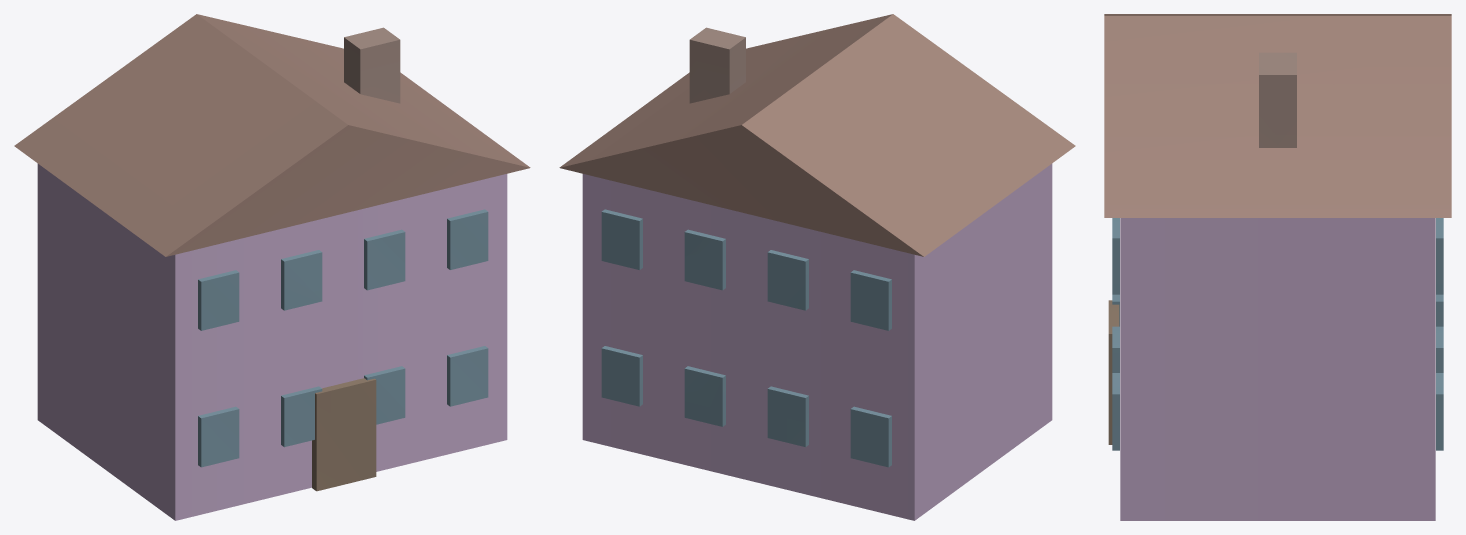
The model's file is chalet-00.glb.
3 renders of one model, left to right at view 1: azimuth 30°, elevation 25°; view 2: azimuth 150°, elevation 25°; view 3: azimuth 270°, elevation 25°, orthographic. The views are drawn at different scales.
Visible parts, largest first — view 1: world; view 2: world; view 3: world.
Part boxes in pixels (x1=…): world: x1=14, y1=14, x2=530, y2=520; world: x1=559, y1=14, x2=1075, y2=520; world: x1=1104, y1=14, x2=1451, y2=520.
Bounding box in the file's own units: 1.57 × 1.51 × 1.13.
